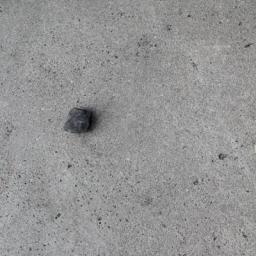FOD: (61, 104, 97, 137)
